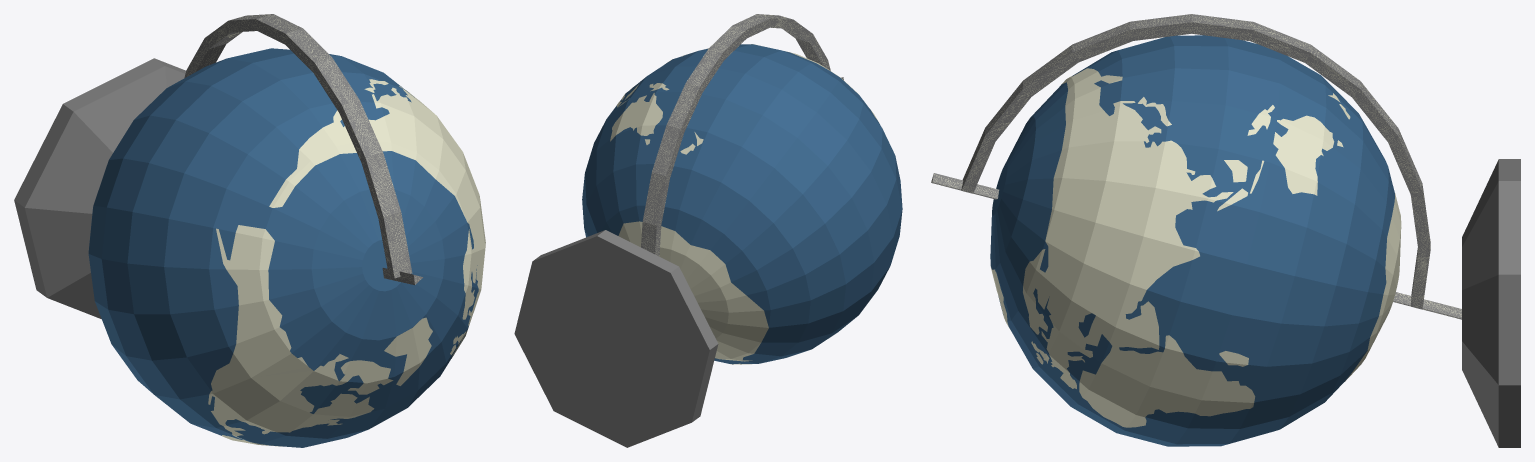
The picture shows the model from 3 angles, left to right: view 1: azimuth 30°, elevation 25°; view 2: azimuth 150°, elevation 25°; view 3: azimuth 270°, elevation 25°; orthographic projection. The views are drawn at different scales.
Parts seen in each view (by area): view 1: globe; view 2: globe; view 3: globe.
Part boxes in pixels (box(x1,y1,x2,y2)): globe: box(14, 14, 485, 447); globe: box(514, 14, 902, 447); globe: box(931, 14, 1520, 447).
Bounding box in the file's own units: 13.93 × 15.62 × 19.99.
